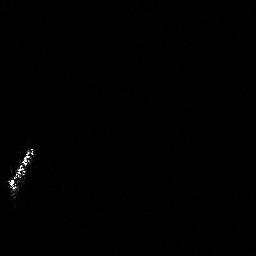ship: (5, 145, 38, 197)
